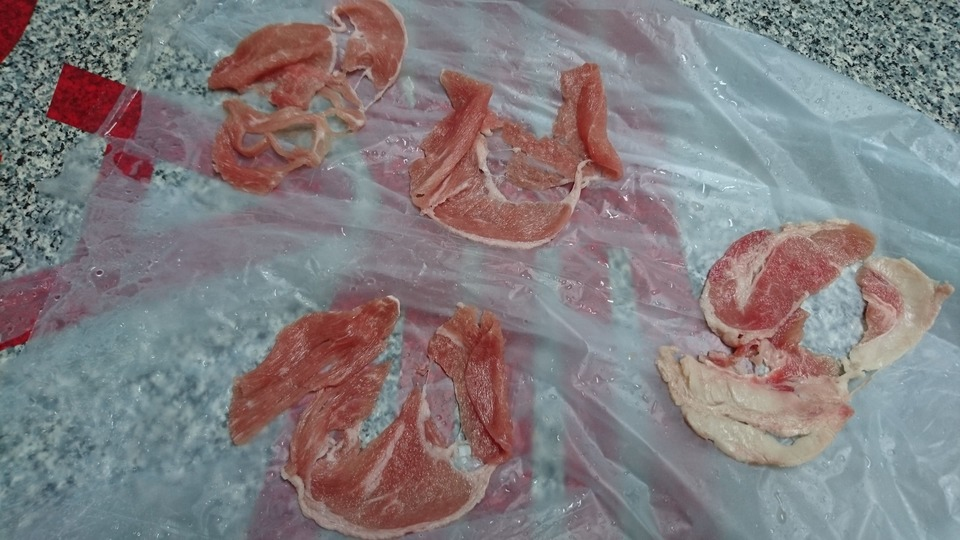restructured meat: (221, 286, 516, 540), (654, 214, 949, 468), (410, 60, 636, 253), (199, 1, 425, 194)
